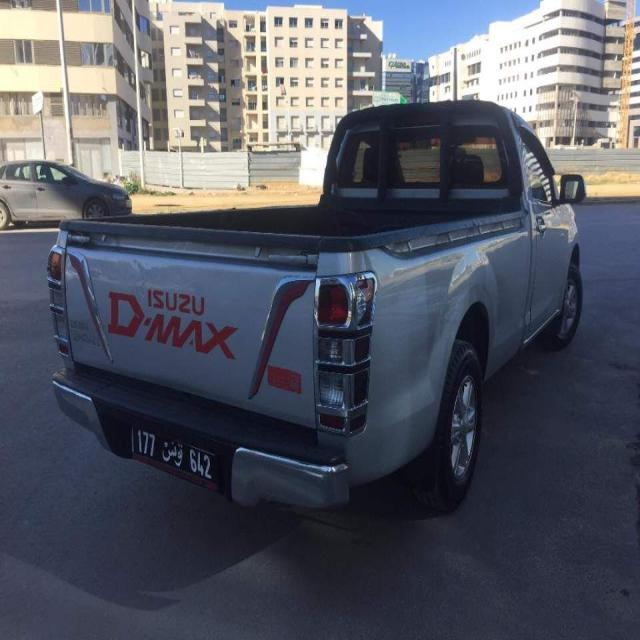LP: (130, 423, 215, 478)
